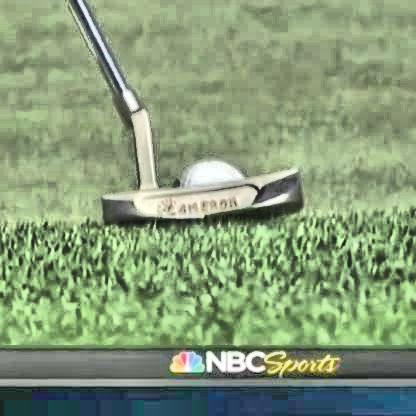golfball: (173, 172, 241, 203)
